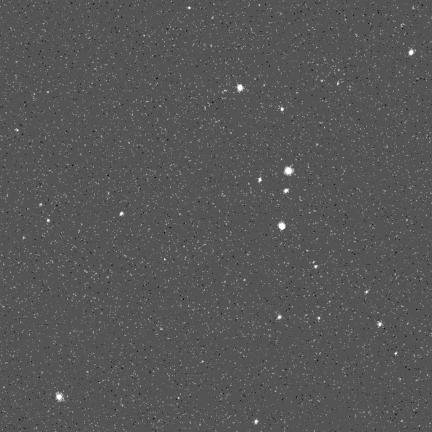blob: (284, 167, 294, 176), (279, 222, 286, 231), (237, 84, 243, 92), (409, 49, 415, 56), (254, 419, 260, 425), (39, 203, 43, 208), (377, 322, 382, 326), (15, 128, 19, 133), (278, 314, 282, 319), (284, 189, 289, 193), (120, 212, 124, 216), (258, 177, 261, 182), (188, 7, 192, 10), (281, 107, 284, 111), (314, 265, 318, 268), (47, 219, 50, 222), (318, 317, 320, 321)
